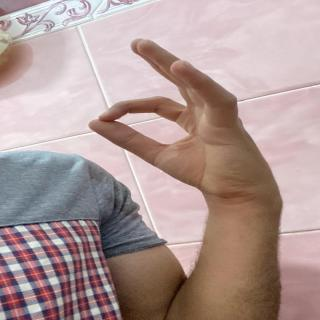Space: (89, 33, 277, 210)
